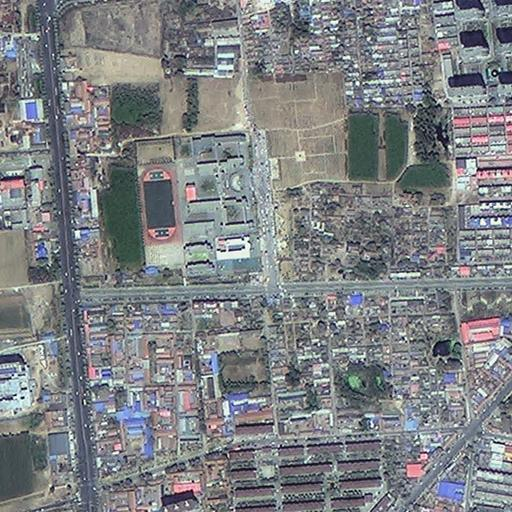school: (135, 133, 257, 277)
